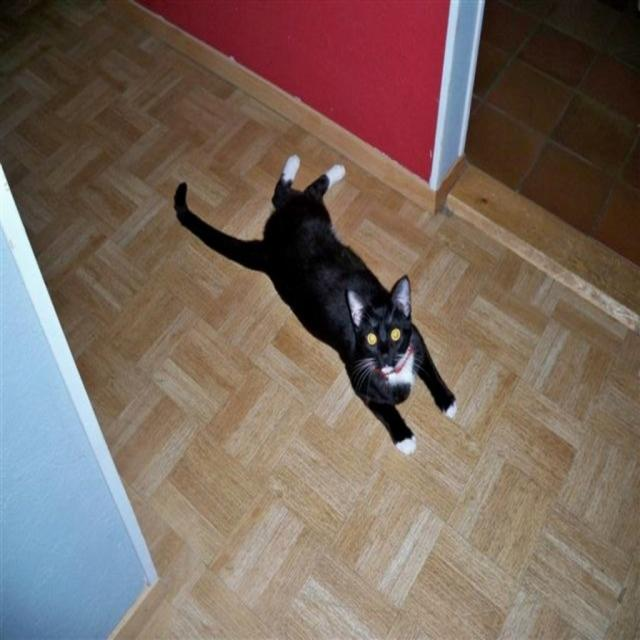Cat: (176, 155, 456, 457)
